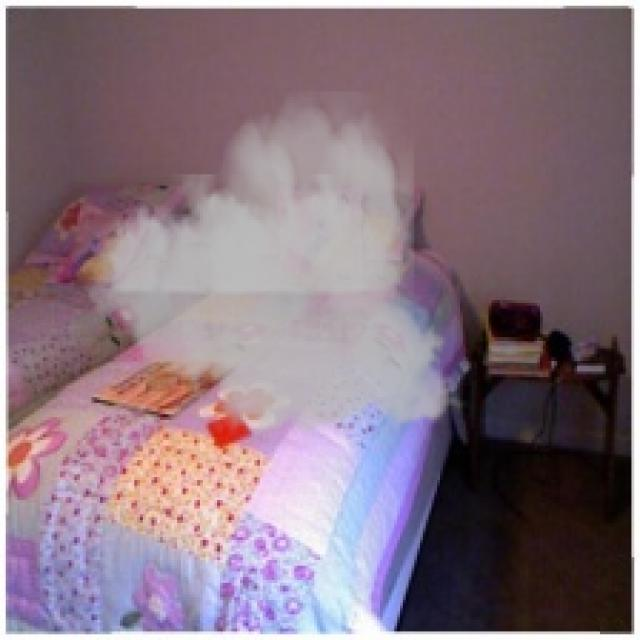smoke: (74, 91, 474, 448)
